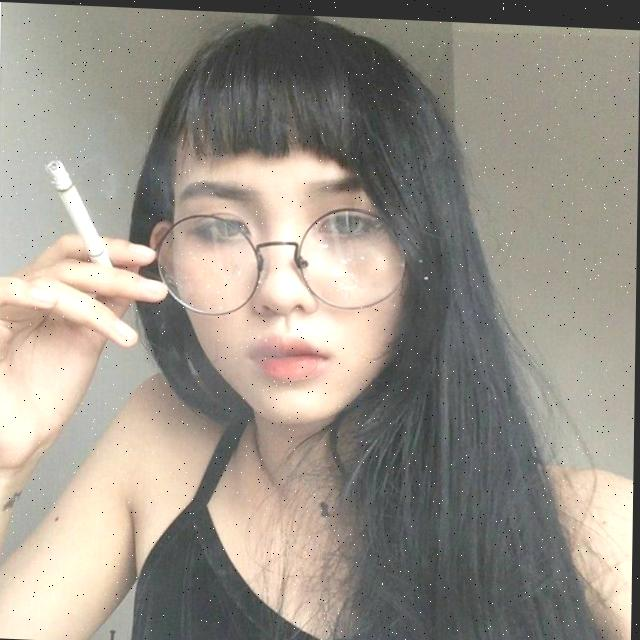cigarette: (42, 158, 115, 266)
